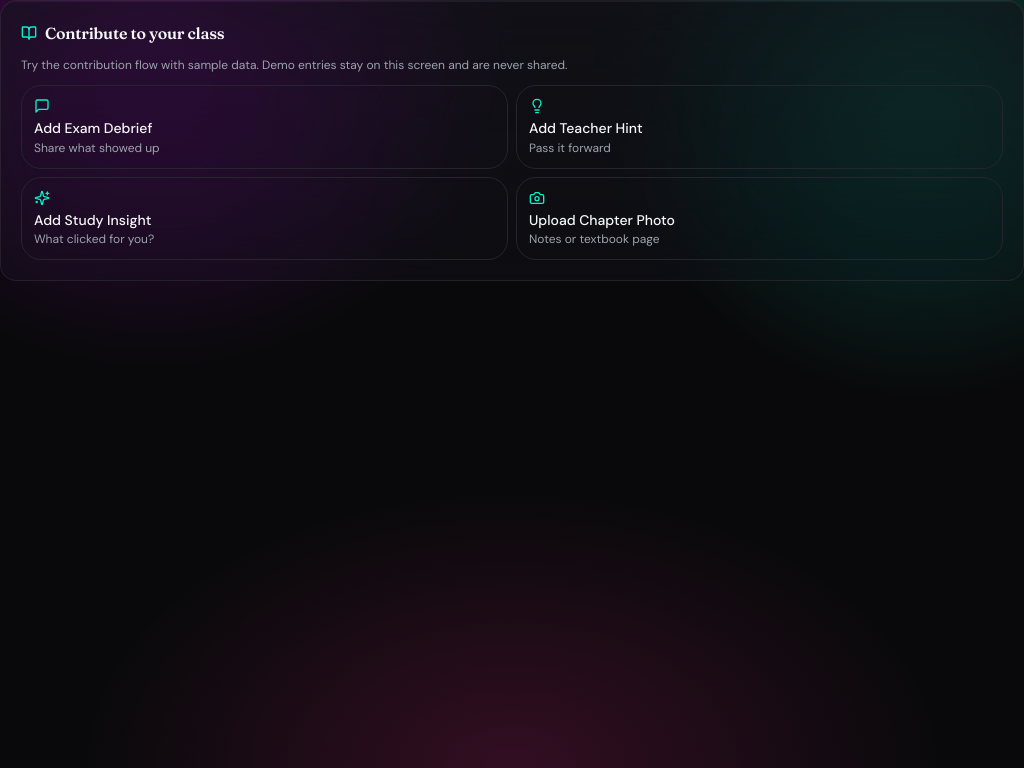
it: ContributeHub demo submissions › labels the flow as local and reports that a sample was not shared
Check: the text "demo entries stay on this screen and are never shared" is shown, box [21,57,567,73]
Click the button "Add Teacher Hint Pass it forward" at (586, 128), box [516,85,1003,168]
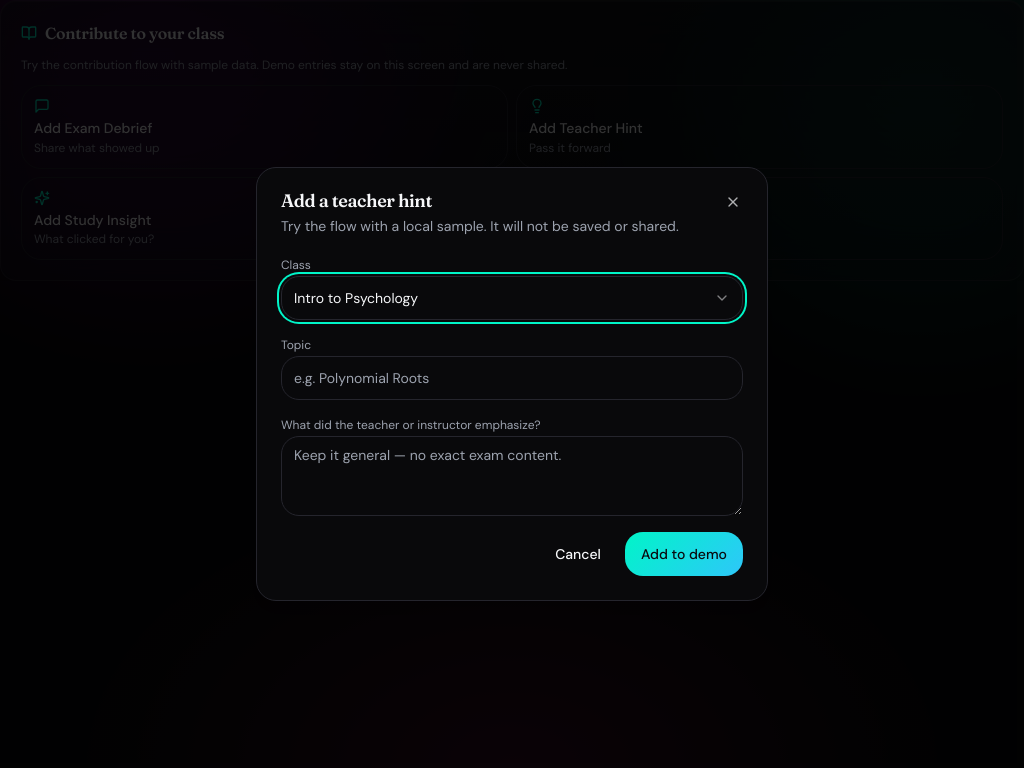
Type "Memory models" into the field with placeholder "e.g. Polynomial Roots" at (512, 378), box [281,356,743,400]
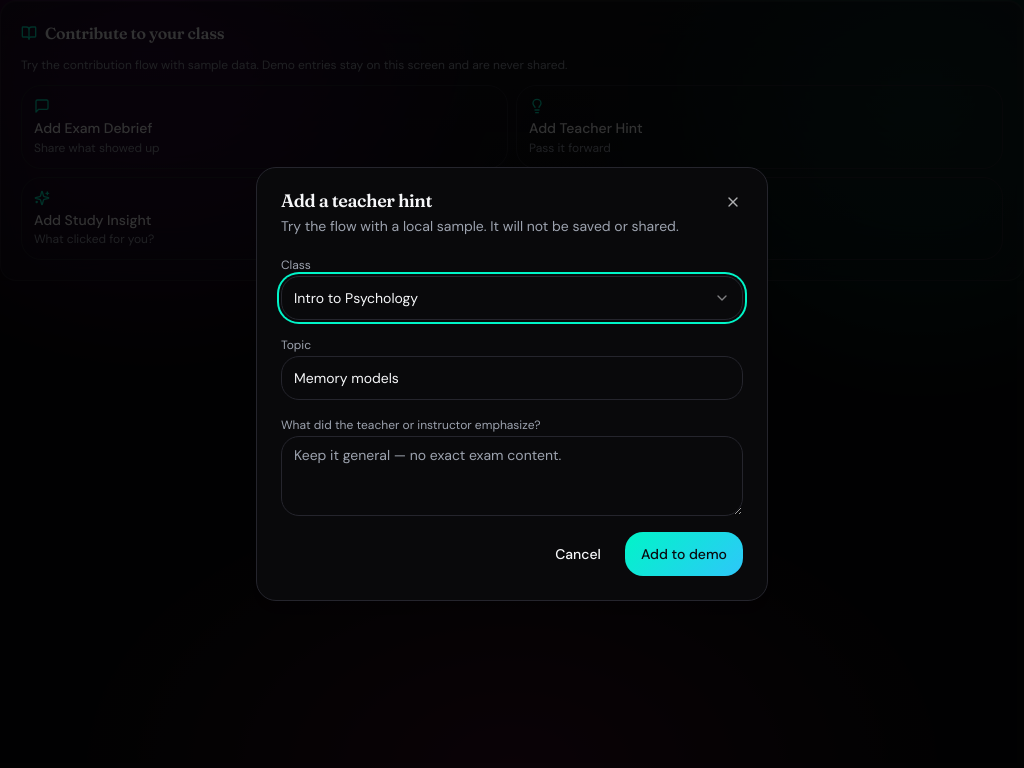
Type "The professor repeated this concept." into the text box with placeholder "Keep it general — no exact exam content." at (512, 476), box [281,436,743,516]
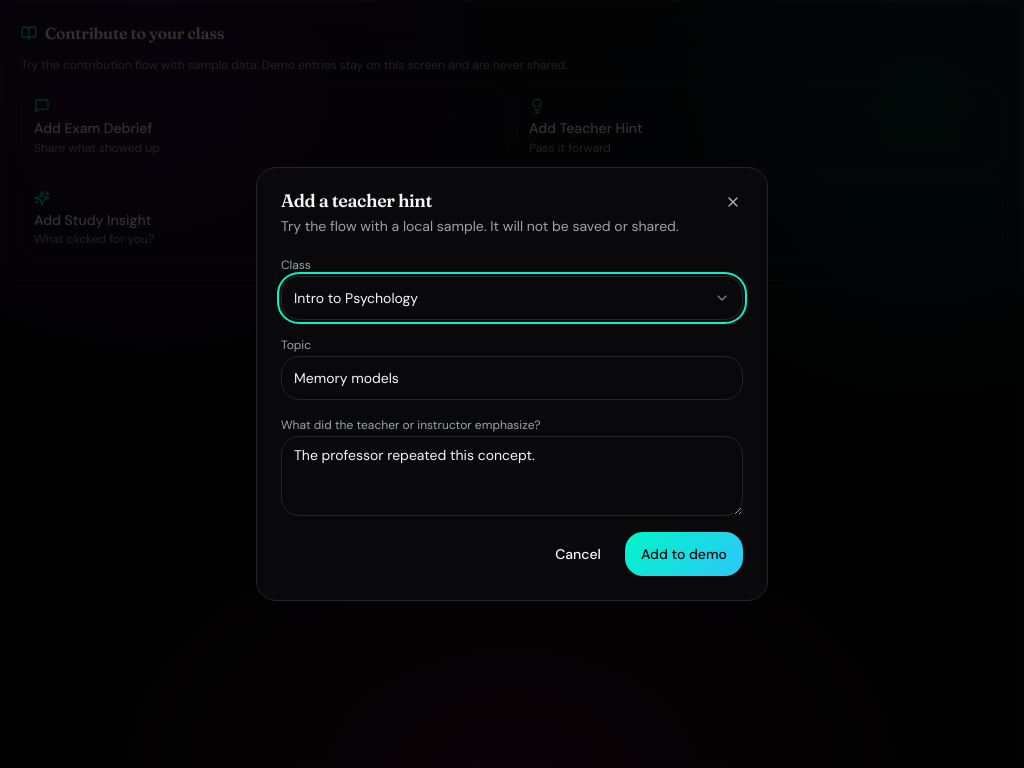
Click the button "Add to demo" at (684, 554), box [625,532,743,576]
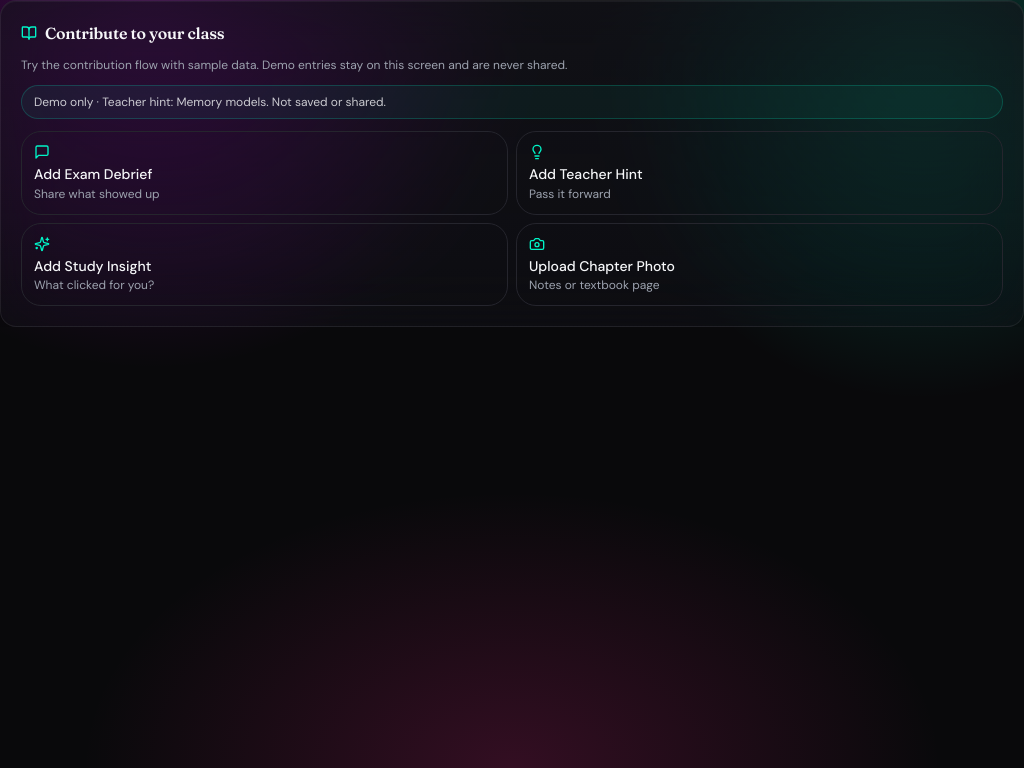
Check: the text "Demo only · Teacher hint: Memory models. Not saved or shared." is shown, box [21,85,1003,119]
